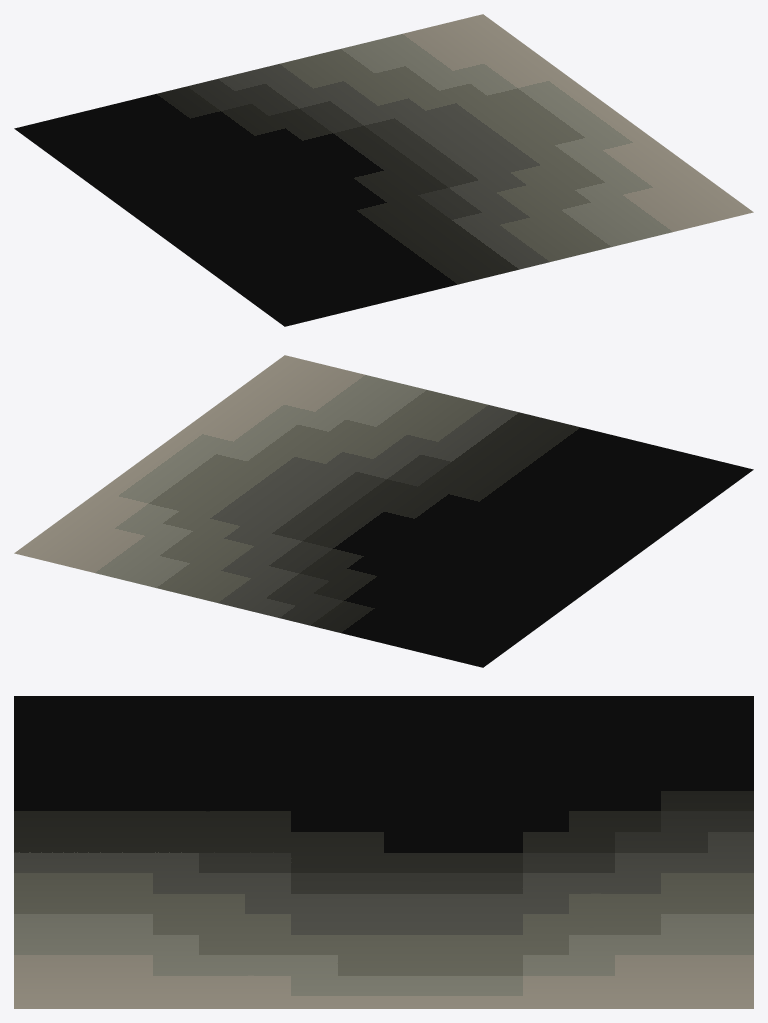
3 views of the same model, one above another, from view 1: azimuth 30°, elevation 25°; view 2: azimuth 150°, elevation 25°; view 3: azimuth 270°, elevation 25° (orthographic). The views are drawn at different scales.
Bounding box in the file's own units: 1 × 0 × 1.
1 material, 1 textured.
